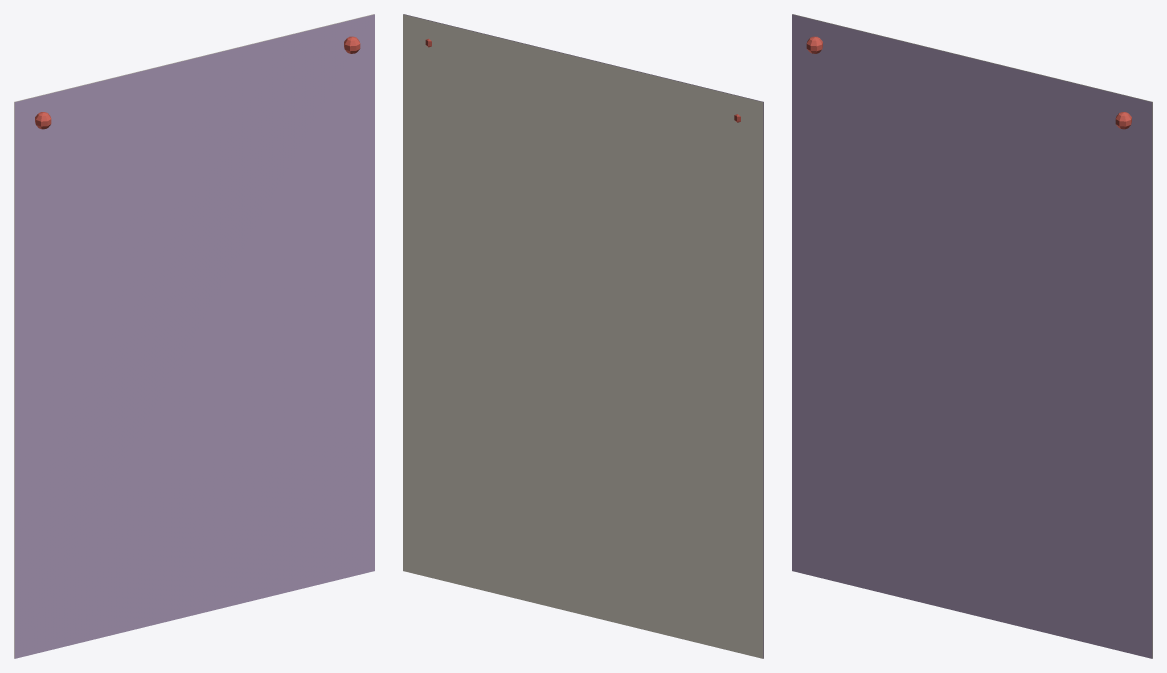
The model's file is Garage_Card_Poster_C.glb.
3 renders of one model, left to right at view 1: azimuth 30°, elevation 25°; view 2: azimuth 150°, elevation 25°; view 3: azimuth 330°, elevation 25°, orthographic.
Parts seen in each view (by area): view 1: Garage_Card_Poster_C; view 2: Garage_Card_Poster_C; view 3: Garage_Card_Poster_C.
Part boxes in pixels (<box>): Garage_Card_Poster_C: <box>14,14,374,658</box>; Garage_Card_Poster_C: <box>403,14,763,658</box>; Garage_Card_Poster_C: <box>792,14,1152,658</box>.
Bounding box in the file's own units: 0.42 × 0.62 × 0.0171.
